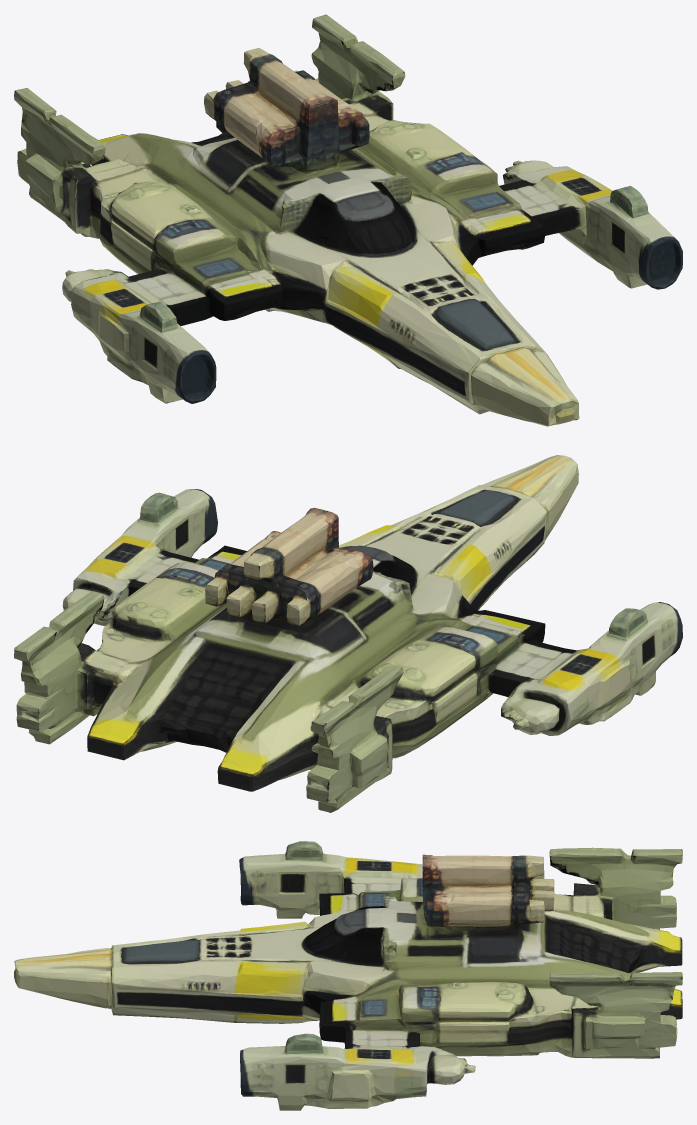
File: Brawler Gunship.glb
3 views of the same model, one above another, from view 1: azimuth 30°, elevation 25°; view 2: azimuth 150°, elevation 25°; view 3: azimuth 270°, elevation 25° (orthographic). The views are drawn at different scales.
Visible parts, largest first — view 1: world; view 2: world; view 3: world.
Part boxes in pixels (x1,y1,x2,y2): world: (14, 14, 682, 426); world: (14, 455, 682, 812); world: (14, 841, 682, 1110).
Bounding box in the file's own units: 0.7397 × 0.27 × 1.
1 material, 1 textured.
